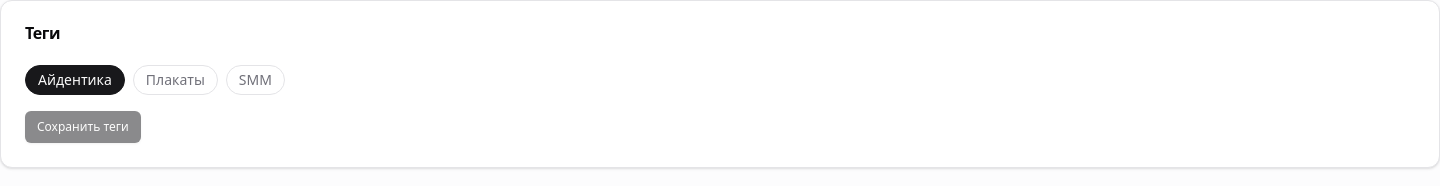
Test case: WorkTagsCard › возврат к исходному набору снова гасит кнопку (нет изменений)
What coordinates should you click on to do the following:
click the button "Плакаты"
I would click on:
 (175, 80)
Its box is [133,65,218,95].
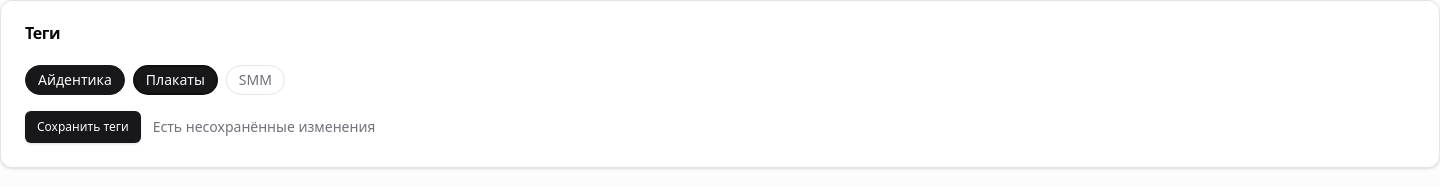
expect the button "Сохранить теги" is enabled: met, box [25,111,141,143]
What coordinates should you click on to do the following:
click the button "Плакаты"
I would click on:
 (175, 80)
Its box is [133,65,218,95].
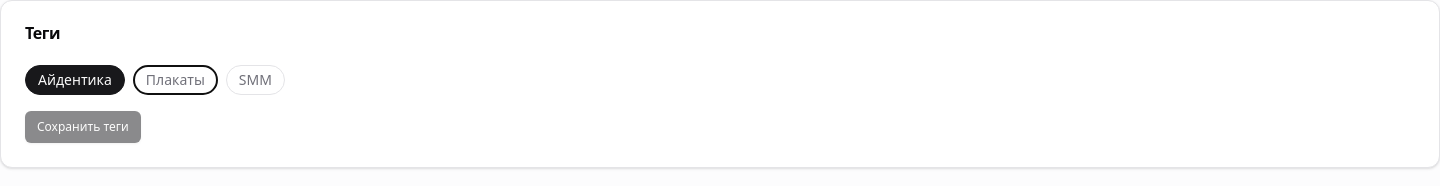
expect the button "Сохранить теги" is disabled: met, box [25,111,141,143]
